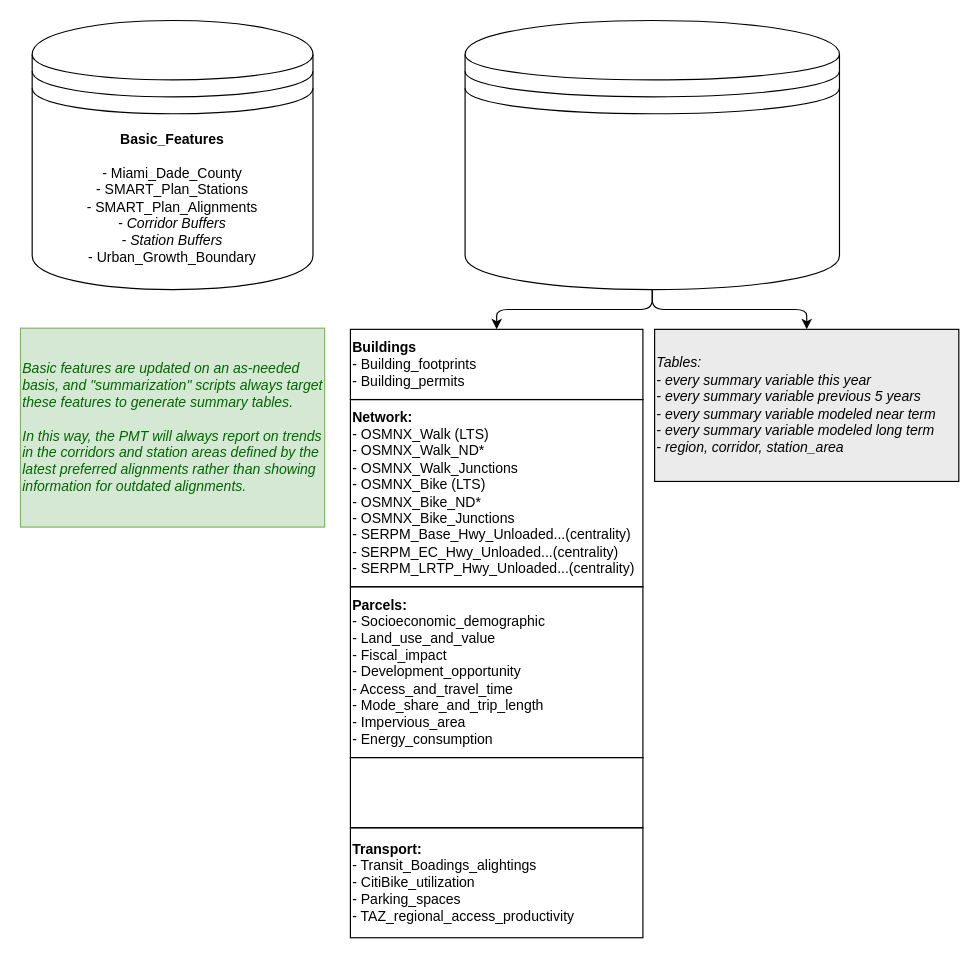
Image size: 979x958. Some labels were removed from this diagram. Here are the shapes that lost their labels. From the top down, the centre of each, then its label:
At (x=651, y=154): "PMT_{year}".
At (x=496, y=792): "SafetySecurity - Violent_crime_incidents - Nonmotorized_crashes".
